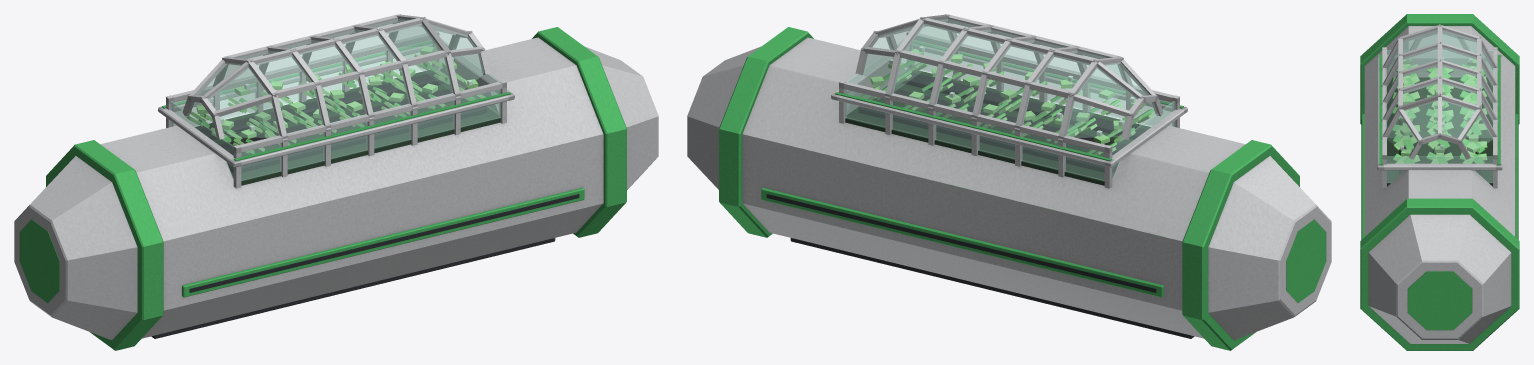
File: SM_Farm_tex2.fbx
3 renders of one model, left to right at view 1: azimuth 30°, elevation 25°; view 2: azimuth 150°, elevation 25°; view 3: azimuth 270°, elevation 25°, orthographic. The views are drawn at different scales.
Visible parts, largest first — view 1: SMN_Farm, Glass; view 2: SMN_Farm, Glass; view 3: SMN_Farm, Glass.
Part boxes in pixels (box(x1,y1,x2,y2)): SMN_Farm: box(14, 14, 658, 350); Glass: box(170, 19, 500, 180); SMN_Farm: box(687, 14, 1331, 350); Glass: box(845, 19, 1175, 180); SMN_Farm: box(1360, 14, 1519, 350); Glass: box(1386, 30, 1493, 182).
Size of the model in its own units: 1.92 by 0.7375 by 0.5469.
